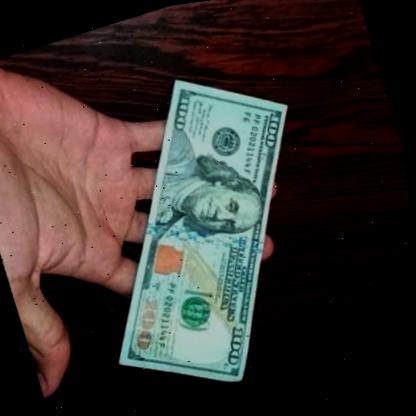one_hundred-front: (27, 31, 382, 416)
